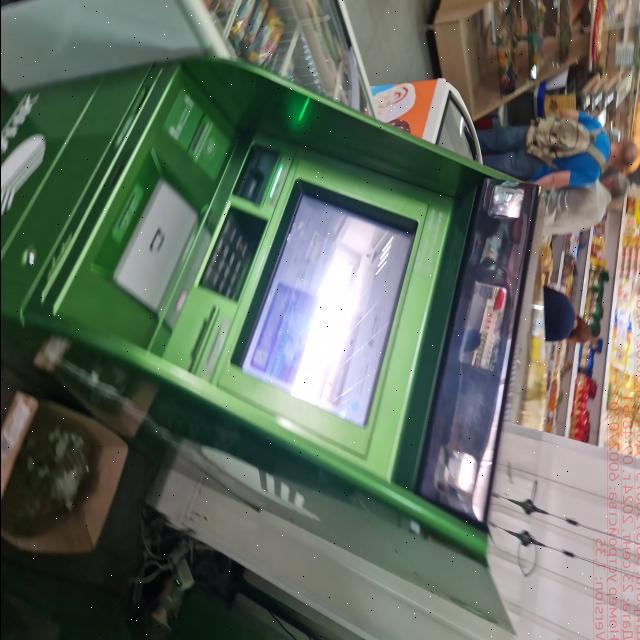bank: (0, 59, 541, 640)
